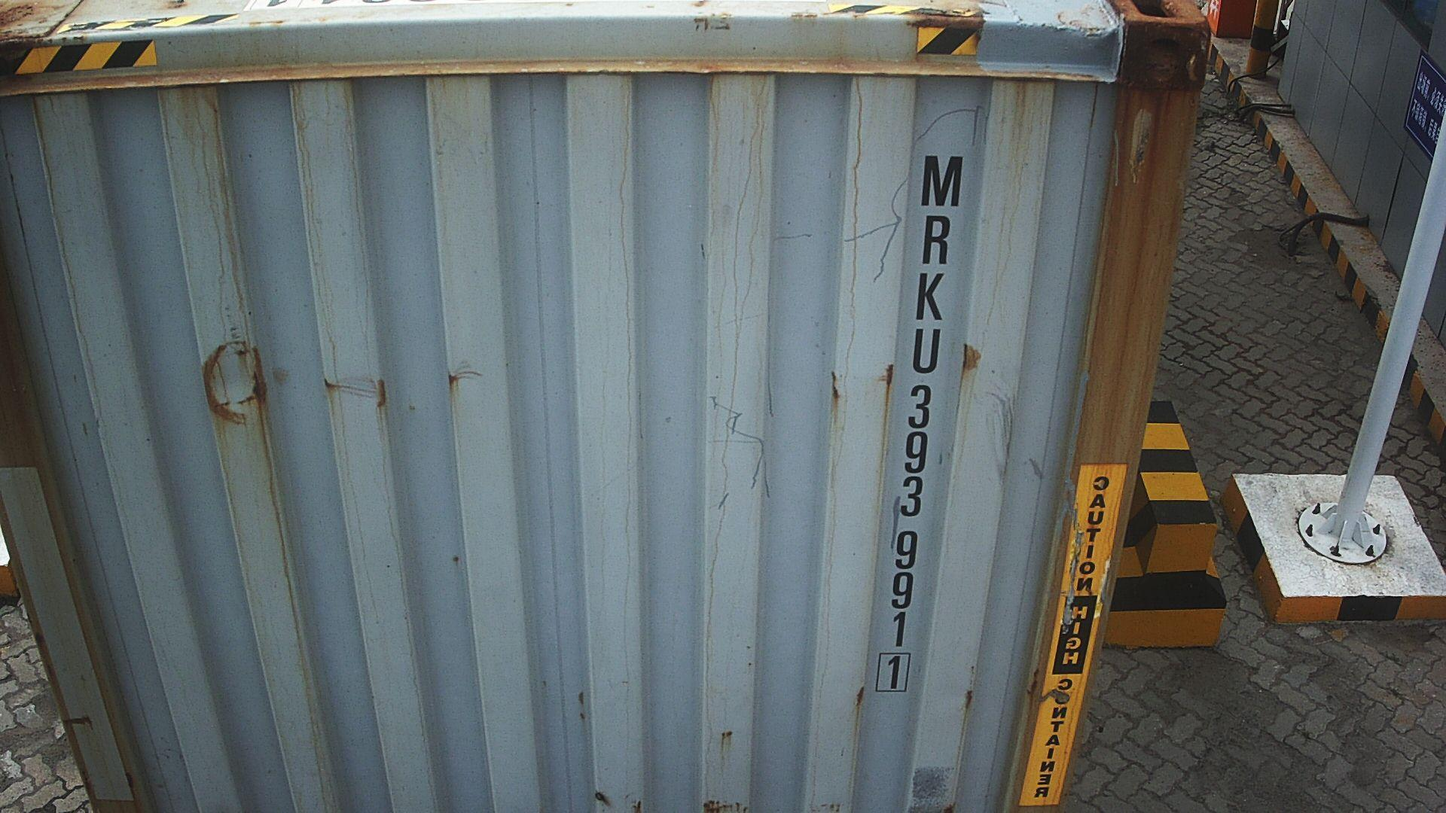container-numbers: (869, 149, 970, 704)
